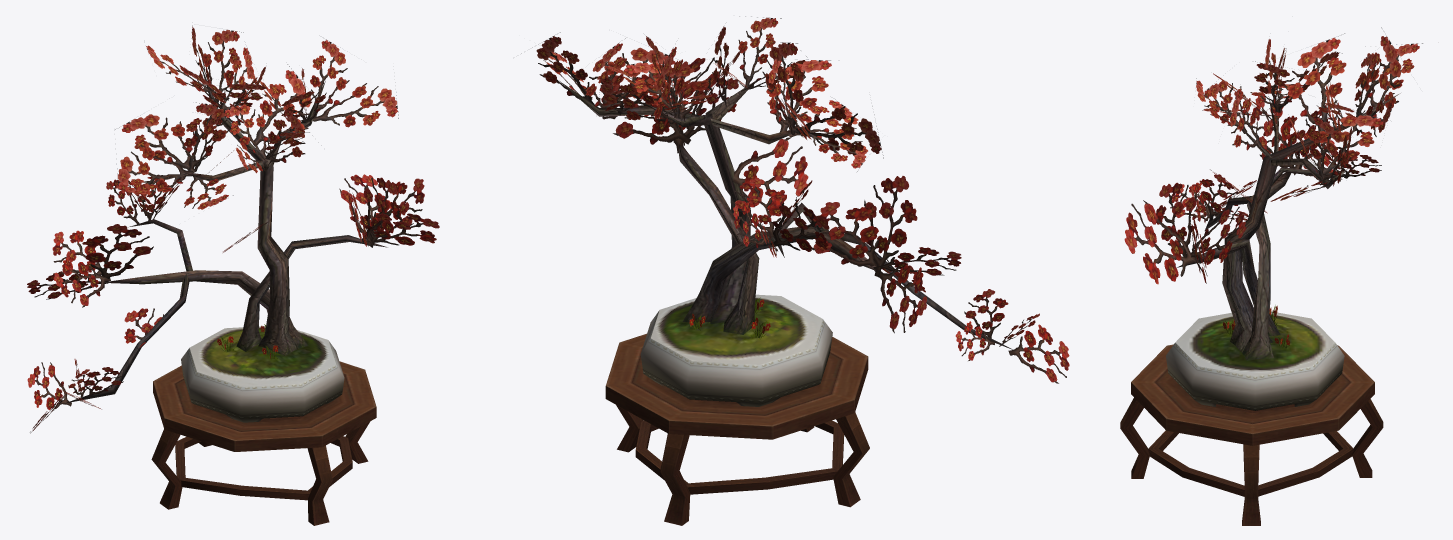
Rendered from wm_灌木梅花盆景01.fbx.
The picture shows the model from 3 angles, left to right: view 1: azimuth 30°, elevation 25°; view 2: azimuth 150°, elevation 25°; view 3: azimuth 270°, elevation 25°; orthographic projection. The views are drawn at different scales.
Visible parts, largest first — view 1: wm_灌木梅花盆景01; view 2: wm_灌木梅花盆景01; view 3: wm_灌木梅花盆景01.
Boxes of the visible parts, box(x1,y1,x2,y2) form: wm_灌木梅花盆景01: box(27, 25, 439, 525); wm_灌木梅花盆景01: box(521, 16, 1069, 525); wm_灌木梅花盆景01: box(1120, 27, 1422, 525).
Size of the model in its own units: 267 by 253 by 165.
